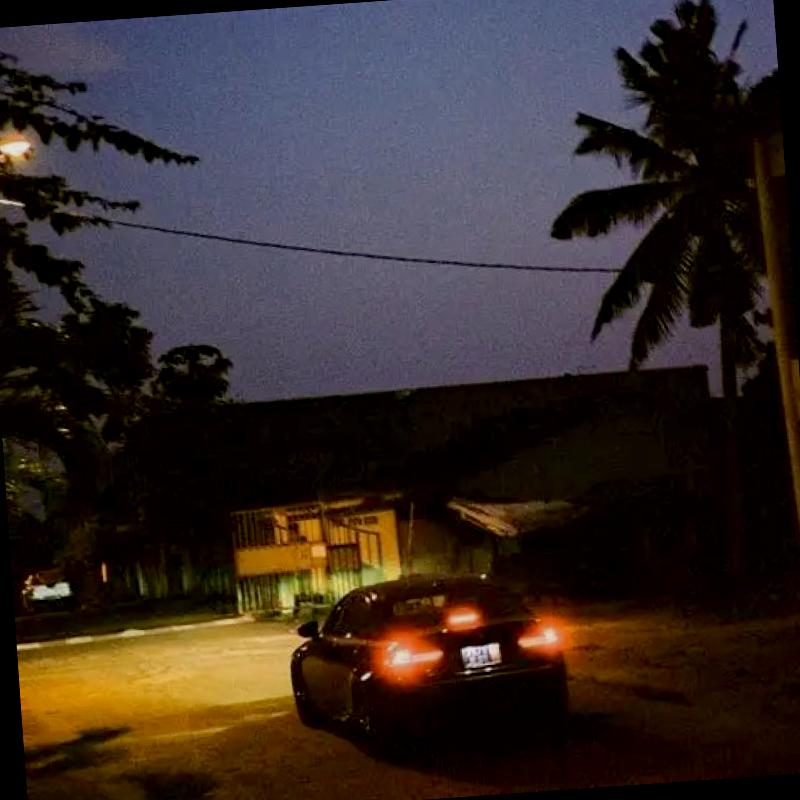license plate on a car: (461, 643, 501, 668)
